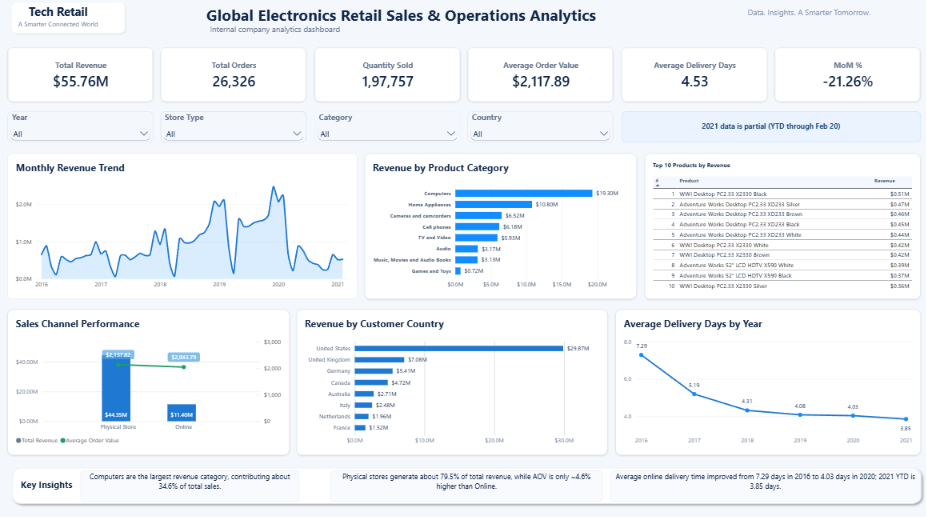

What the dashboard file says about the page in this screenshot:
{"tool":"powerbi","page":{"name":"Page 1","canvas":[1920,1080],"ordinal":0},"visuals":[{"type":"shape","box":[20,0,250,80],"z":0},{"type":"textbox","box":[25,10,200,36],"z":1000},{"type":"textbox","box":[25,43,200,26],"z":2000},{"type":"textbox","box":[310,12,1040,42],"z":3000},{"type":"textbox","box":[310,52,520,24],"z":4000},{"type":"textbox","box":[1480,17,380,22],"z":5000},{"type":"cardVisual","fields":{"Data":["Sales.Total Revenue"]},"box":[20,100,300,112],"z":6000},{"type":"cardVisual","fields":{"Data":["Sales.Total Orders"]},"box":[336,100.5,300,112],"z":7000},{"type":"cardVisual","fields":{"Data":["Sales.Quantity Sold"]},"box":[652,100,300,112],"z":8000},{"type":"cardVisual","fields":{"Data":["Sales.Average Order Value"]},"box":[968,100.5,300,112],"z":9000},{"type":"cardVisual","fields":{"Data":["Sales.Average Delivery Days"]},"box":[1284,100.5,300,112],"z":10000},{"type":"slicer","fields":{"Values":["Date.Year"]},"box":[20,232,300,64],"z":11000},{"type":"slicer","fields":{"Values":["Stores.Store Type"]},"box":[336,232,300,64],"z":12000},{"type":"slicer","fields":{"Values":["Products.Category"]},"box":[652,232,300,64],"z":13000},{"type":"slicer","fields":{"Values":["Customers.Country"]},"box":[968,232,300,64],"z":14000},{"type":"textbox","box":[1284,232,616,64],"z":15000},{"type":"lineChart","title":"Monthly Revenue Trend","fields":{"Category":["Date.Month Start"],"Y":["Sales.Total Revenue"]},"box":[20,320,720,300],"z":16000},{"type":"clusteredBarChart","title":"Revenue by Product Category","fields":{"Category":["Products.Category"],"Y":["Sales.Total Revenue"]},"box":[756,320,560,300],"z":17000},{"type":"tableEx","title":"Top 10 Products by Revenue","fields":{"Values":["Sales.Product Revenue Rank","Products.Product Name","Sales.Total Revenue"]},"box":[1332,320,568,300],"z":18000},{"type":"lineClusteredColumnComboChart","title":"Sales Channel Performance","fields":{"Category":["Stores.Store Type"],"Y":["Sales.Total Revenue"],"Y2":["Sales.Average Order Value"]},"box":[20,640,580,300],"z":19000},{"type":"clusteredBarChart","title":"Revenue by Customer Country","fields":{"Category":["Customers.Country"],"Y":["Sales.Total Revenue"]},"box":[616,640,640,300],"z":20000},{"type":"lineChart","title":"Average Delivery Days by Year","fields":{"Category":["Date.Year"],"Y":["Sales.Average Delivery Days"]},"box":[1272,640,628,300],"z":21000},{"type":"shape","box":[20,958,1890,92],"z":22000},{"type":"textbox","box":[30,989,140,26],"z":23000},{"type":"cardVisual","fields":{"Data":["Sales.MoM %"]},"box":[1600,100.9,300,112],"z":24000},{"type":"textbox","box":[170,972,450,65],"z":24001},{"type":"textbox","box":[686,972,560,65],"z":24002},{"type":"textbox","box":[1262,972,638,65],"z":24003}]}

Visuals, with their boxes in screenshot pixels (x1, y1, x2, y2), scaled from the page's 1920x1080 canvas onto the 926x517 screenshot:
shape: l=10, t=0, r=130, b=38
textbox: l=12, t=5, r=109, b=22
textbox: l=12, t=21, r=109, b=33
textbox: l=150, t=6, r=651, b=26
textbox: l=150, t=25, r=400, b=36
textbox: l=714, t=8, r=897, b=19
cardVisual - Sales.Total Revenue: l=10, t=48, r=154, b=101
cardVisual - Sales.Total Orders: l=162, t=48, r=307, b=102
cardVisual - Sales.Quantity Sold: l=314, t=48, r=459, b=101
cardVisual - Sales.Average Order Value: l=467, t=48, r=612, b=102
cardVisual - Sales.Average Delivery Days: l=619, t=48, r=764, b=102
slicer - Date.Year: l=10, t=111, r=154, b=142
slicer - Stores.Store Type: l=162, t=111, r=307, b=142
slicer - Products.Category: l=314, t=111, r=459, b=142
slicer - Customers.Country: l=467, t=111, r=612, b=142
textbox: l=619, t=111, r=916, b=142
"Monthly Revenue Trend" lineChart: l=10, t=153, r=357, b=297
"Revenue by Product Category" clusteredBarChart: l=365, t=153, r=635, b=297
"Top 10 Products by Revenue" tableEx: l=642, t=153, r=916, b=297
"Sales Channel Performance" lineClusteredColumnComboChart: l=10, t=306, r=289, b=450
"Revenue by Customer Country" clusteredBarChart: l=297, t=306, r=606, b=450
"Average Delivery Days by Year" lineChart: l=613, t=306, r=916, b=450
shape: l=10, t=459, r=921, b=503
textbox: l=14, t=473, r=82, b=486
cardVisual - Sales.MoM %: l=772, t=48, r=916, b=102
textbox: l=82, t=465, r=299, b=496
textbox: l=331, t=465, r=601, b=496
textbox: l=609, t=465, r=916, b=496
